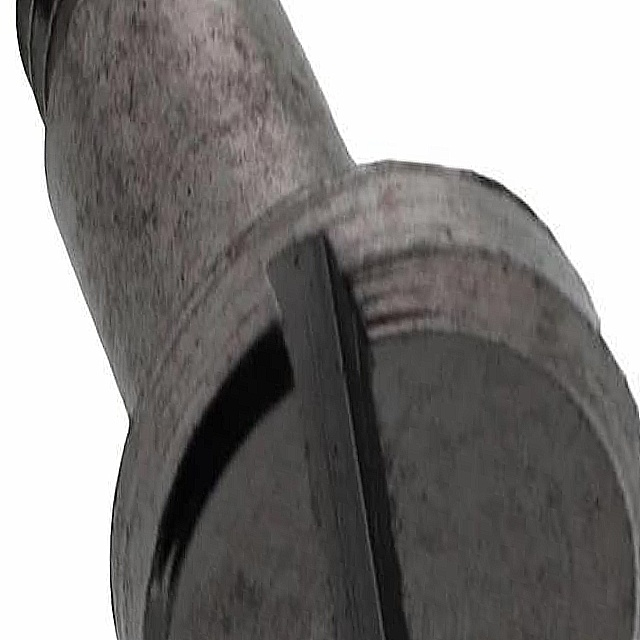duz: (100, 135, 640, 640)
